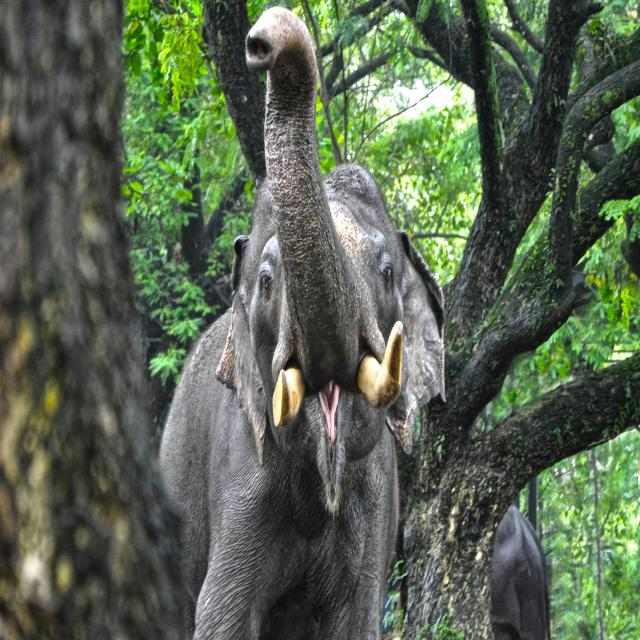Elephant: (153, 2, 447, 640)
